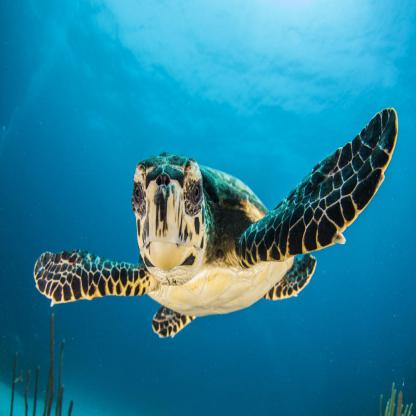turtle: (129, 145, 210, 283)
